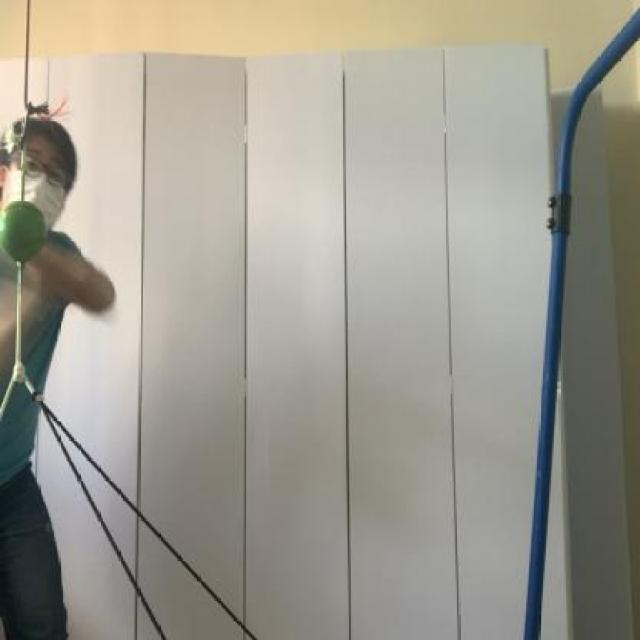baseball: (0, 190, 49, 264)
